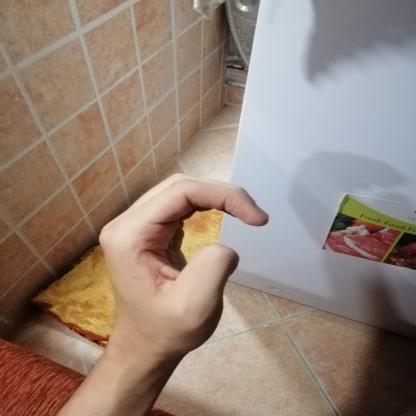JEEM: (78, 162, 290, 363)
